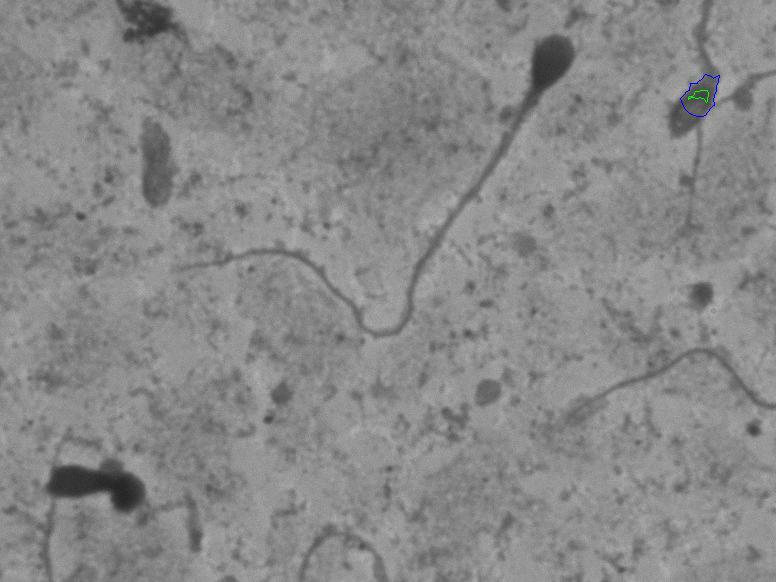Abnormal: (159, 27, 587, 349)
